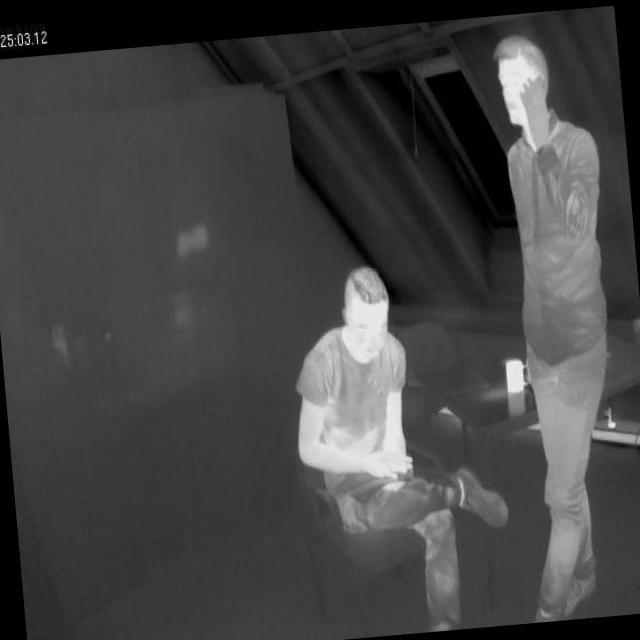person: (279, 251, 522, 640), (486, 34, 640, 613)
